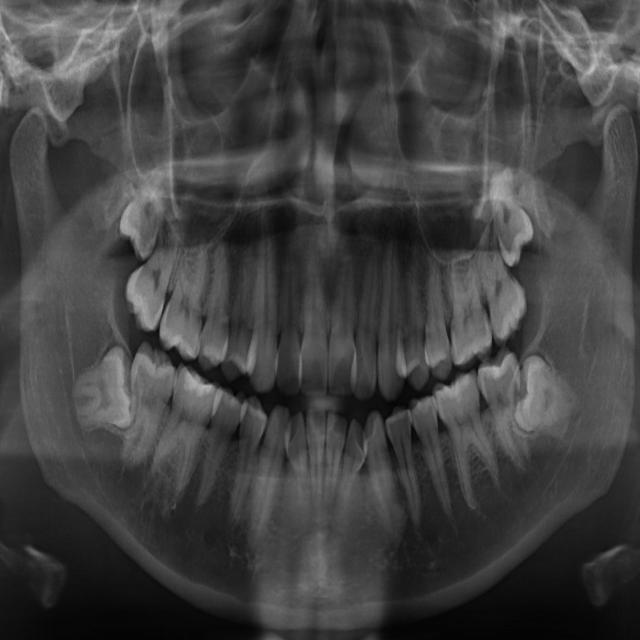3M ESPE Implant: (112, 163, 176, 265)
AGS Medikal Implant: (527, 463, 528, 464)
AMerOss Implant: (427, 365, 516, 513)
Amalgam filling: (116, 202, 188, 336)
Anthogyr Implant: (405, 392, 464, 521)
Bicon Implant: (383, 403, 424, 529)
BioHorizons Implant: (354, 406, 409, 542)
BioLife Implant: (336, 417, 371, 505)
Biomet 3i Implant: (322, 410, 348, 496)
Blue Sky Bio Implant: (302, 404, 326, 503)
Camlog Implant: (281, 410, 314, 503)
Caries: (353, 245, 381, 402)
Composite filling: (240, 402, 296, 549)
Cowellmedi Implant: (210, 393, 273, 531)
Crown: (178, 383, 250, 510)
DENTSPLY Implant: (154, 219, 219, 363)
Dentatus Implant: (141, 362, 225, 505)
Dentis Implant: (128, 455, 129, 457)
Dentium Implant: (67, 340, 135, 435)
Euroteknika Implant: (196, 236, 243, 376)
Filling: (219, 226, 259, 386)
Frontier Implant: (249, 203, 286, 395)
Hiossen Implant: (371, 235, 407, 404)
Implant: (300, 241, 328, 399)
Implant Direct: (276, 230, 304, 399)
Keystone Dental Implant: (328, 240, 357, 398)
MIS Implant: (398, 240, 431, 394)
Mandible: (423, 248, 454, 382)
Maxilla: (439, 249, 495, 370)
Megagen Implant: (471, 215, 533, 346)
Neodent Implant: (484, 163, 542, 270)
Neoss Implant: (519, 352, 575, 440)
